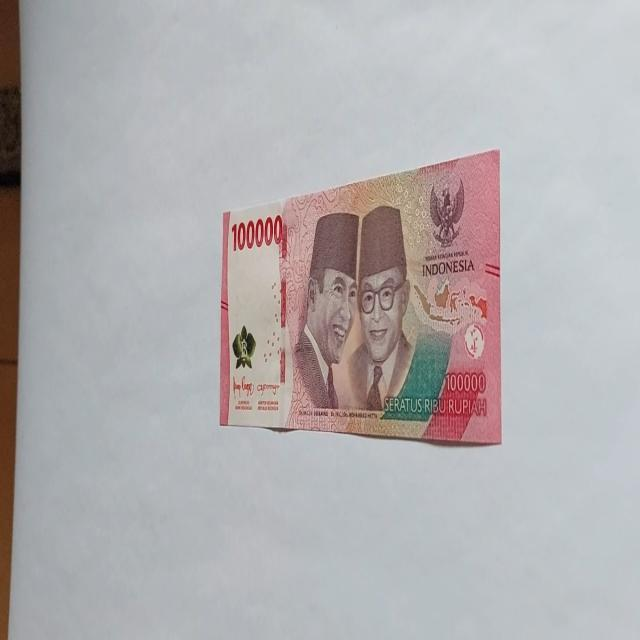seratus ribu rupiah: (219, 147, 502, 446), (347, 205, 416, 412)
